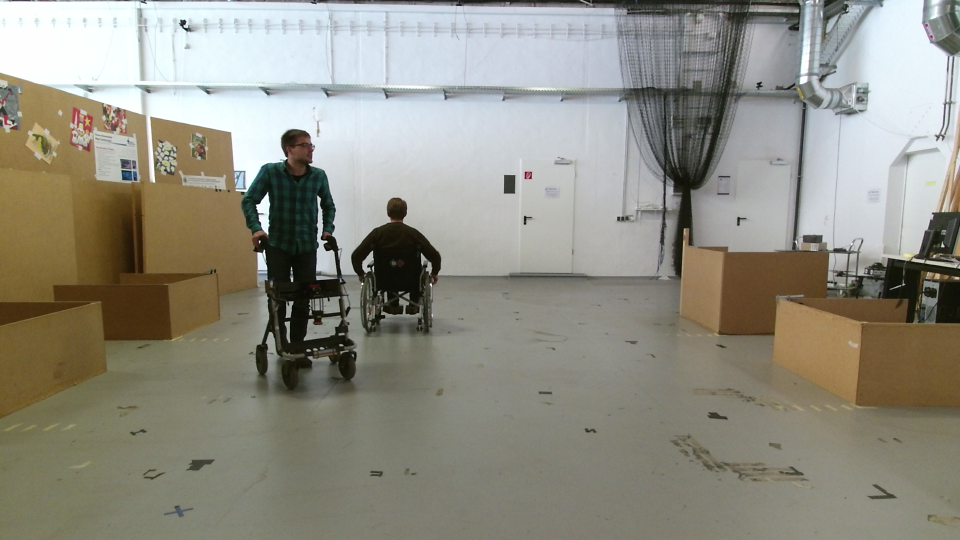wheelchair: (350, 195, 441, 337)
